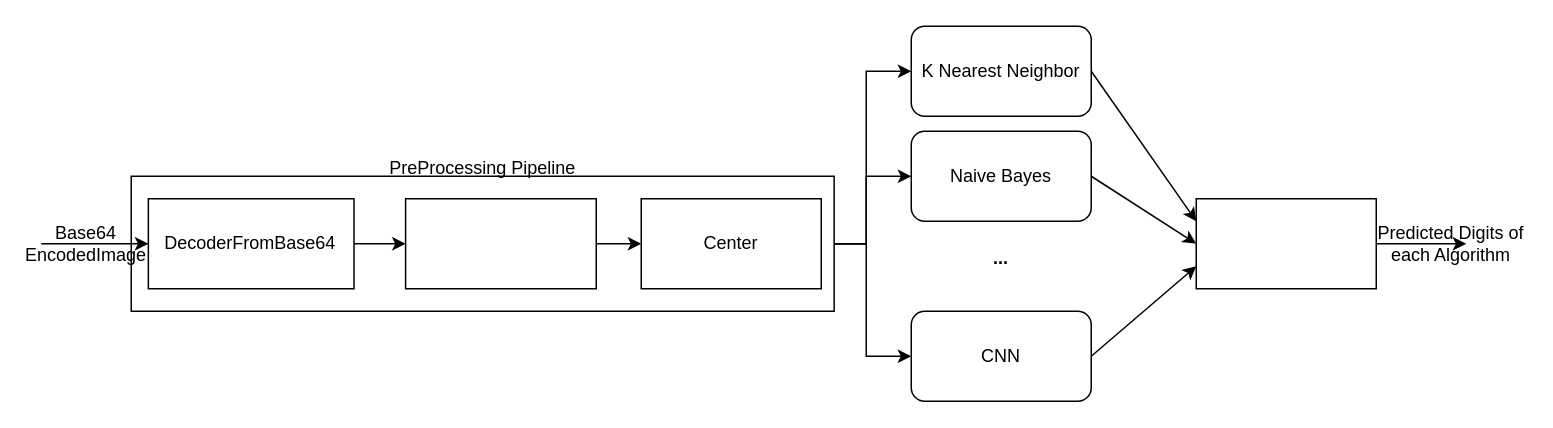
The diagram is 1553 pixels wide and 428 high, and some of its shapes have lost their labels. Each missing label, with the box of its shape:
NegateImagePixels: (404, 197, 596, 289)
Result Collector: (1195, 197, 1376, 289)
